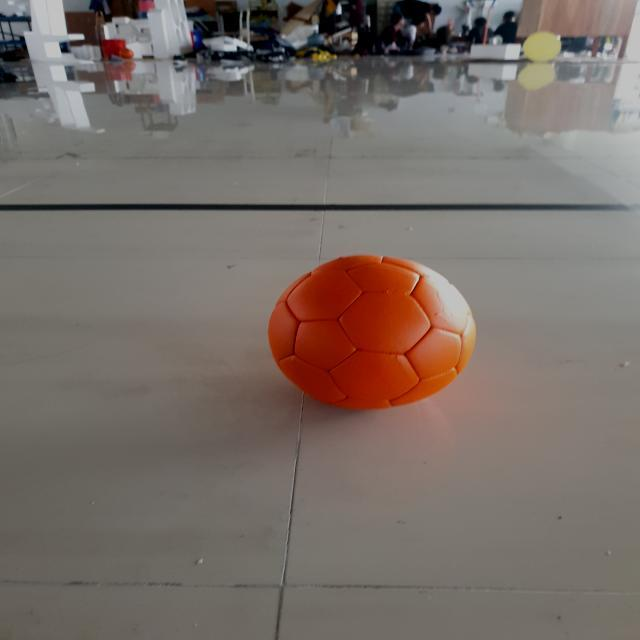bola: (261, 248, 483, 420)
